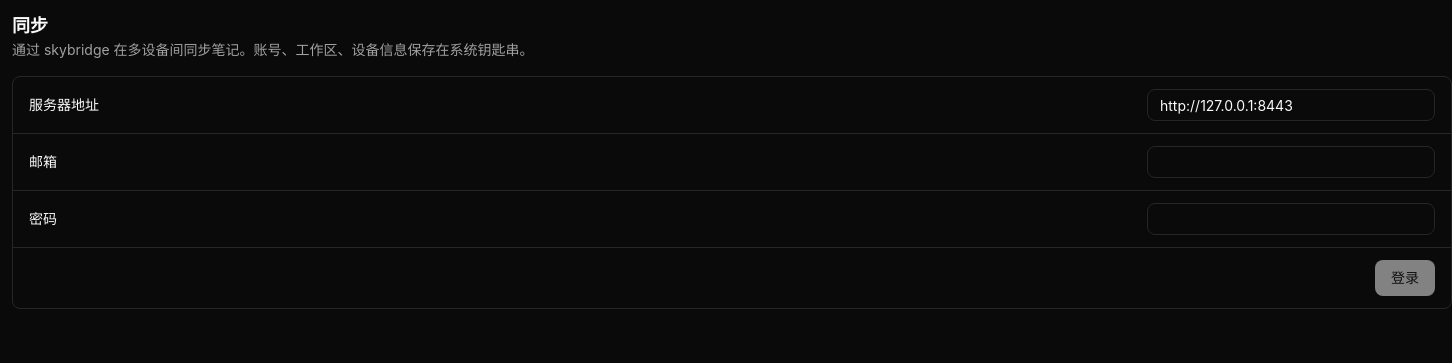
Scenario: SyncSection — unauth → login → auth flow › surfaces 系统钥匙串不可用 for SafeStorageUnavailable replies
Check: the button "登录" is shown, box [1375,260,1435,296]
Type "a@test" into the field in the row of "邮箱" at (1291, 162), box [1147,146,1435,178]
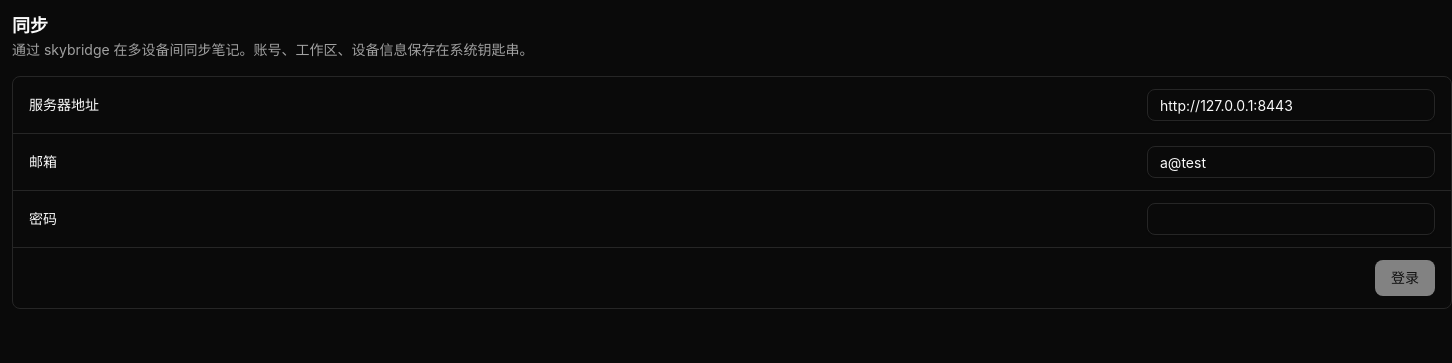
Type "pw" into the password field at (1291, 219), box [1147,203,1435,235]
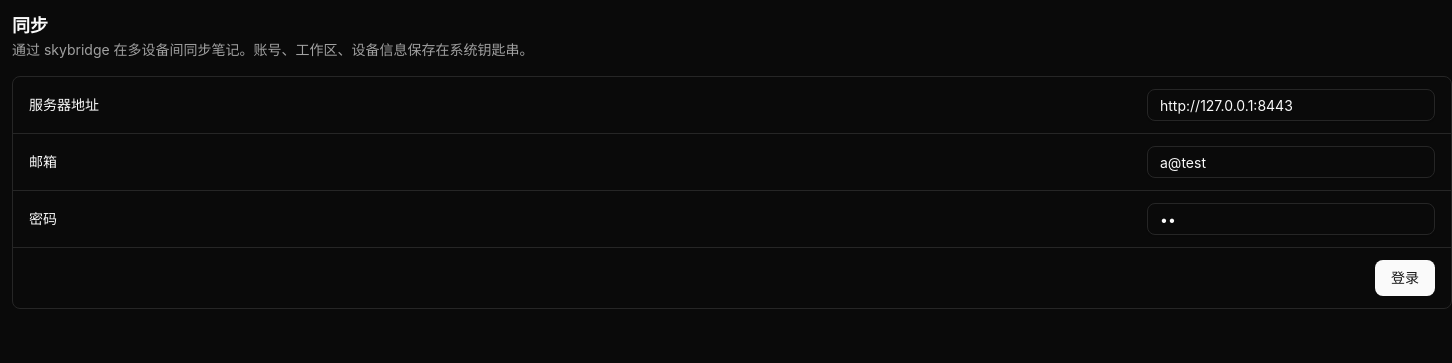
Click the button "登录" at (1405, 278), box [1375,260,1435,296]
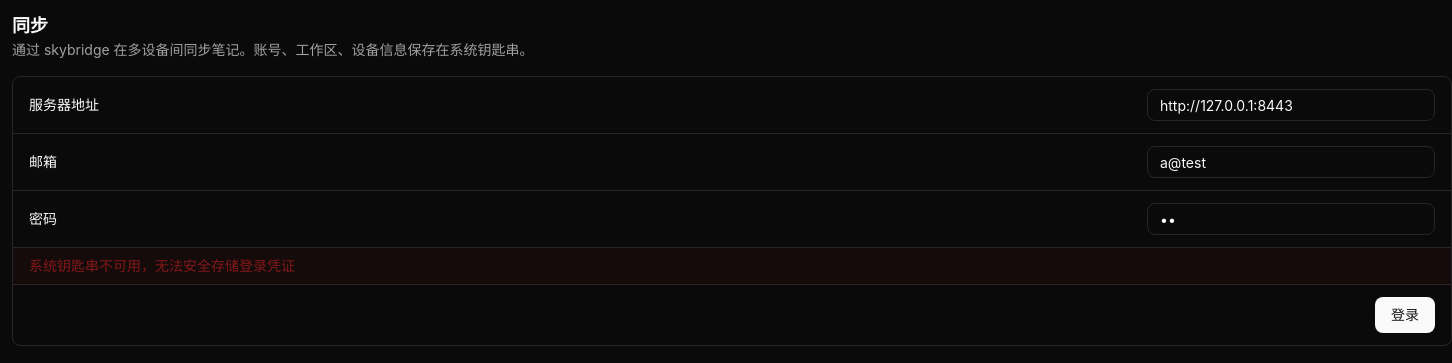
Check: the text "系统钥匙串不可用，无法安全存储登录凭证" is shown, box [13,248,1451,285]
